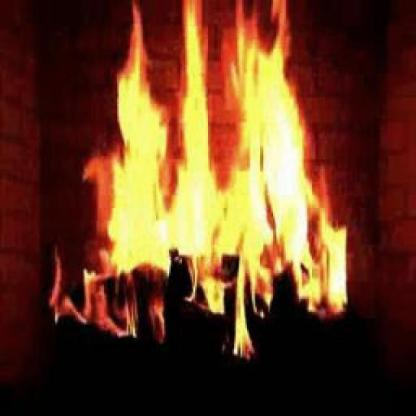fire: (43, 0, 354, 368)
